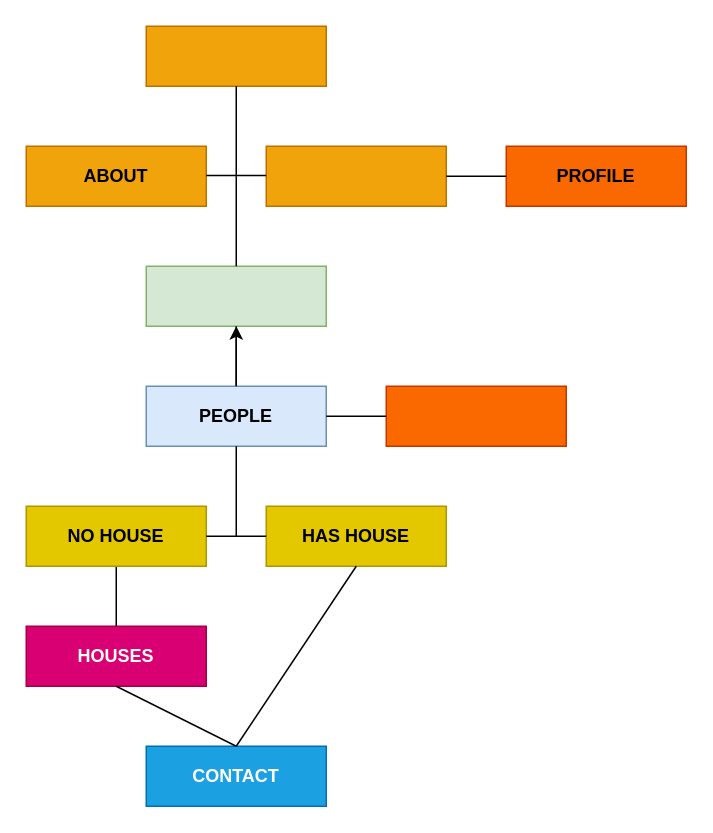
Image size: 713x833. Some labels were removed from this diagram. The box of each missing label's shape, as (x1, y1, x2, y2) in pixels:
HOME: (145, 25, 326, 86)
LOGIN/SIGNUP: (265, 145, 446, 206)
MATCHES: (385, 385, 566, 446)
TEST: (145, 265, 326, 326)
